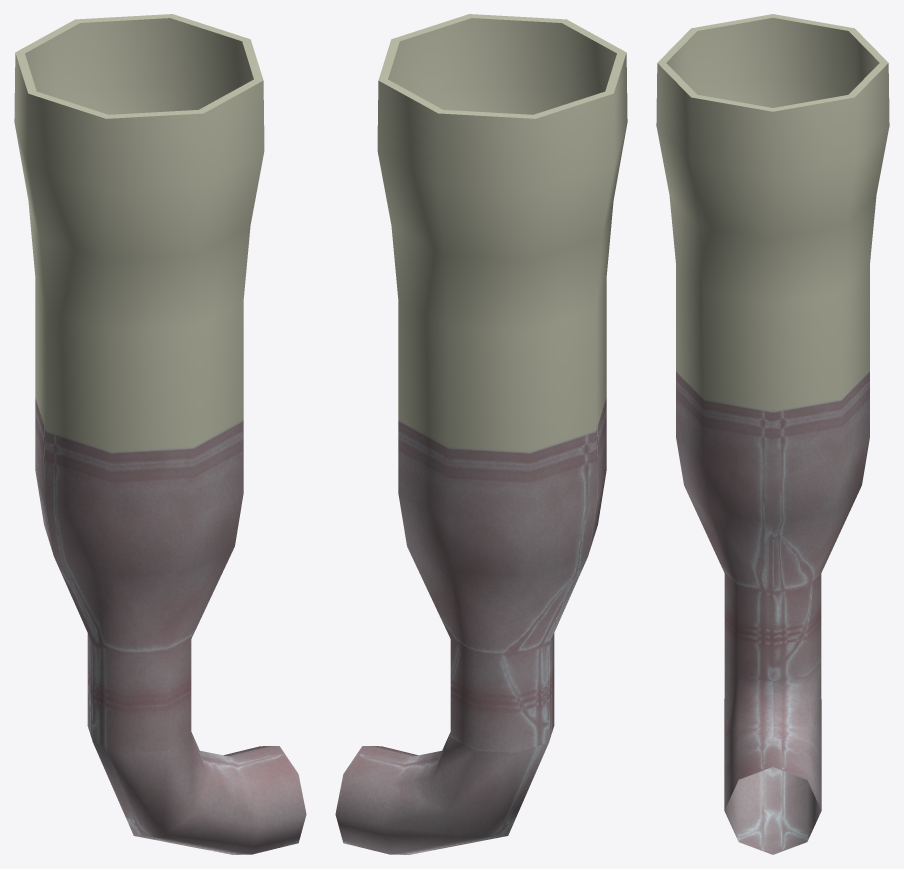
Rendered from station lamp 1.fbx.
3 views of the same model, side by side, from view 1: azimuth 30°, elevation 25°; view 2: azimuth 150°, elevation 25°; view 3: azimuth 270°, elevation 25° (orthographic). The views are drawn at different scales.
Parts seen in each view (by area): view 1: lamp 1_low; view 2: lamp 1_low; view 3: lamp 1_low.
Boxes of the visible parts, x1,y1,x2,y2 form: lamp 1_low: [14, 14, 306, 854]; lamp 1_low: [335, 14, 627, 854]; lamp 1_low: [656, 14, 889, 854].
Bounding box in the file's own units: 24 × 27 × 83.
